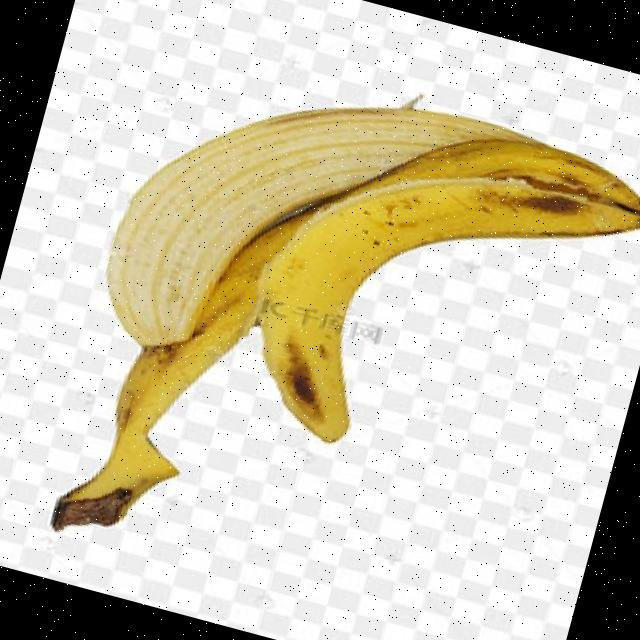banana-peel: (37, 32, 640, 640), (86, 29, 561, 438)
